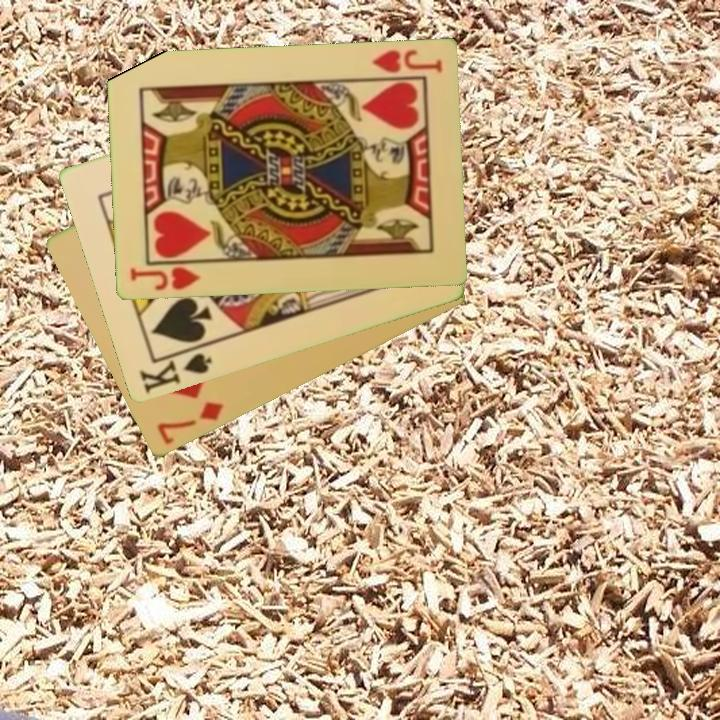7d: (153, 398, 227, 448)
Jh: (126, 264, 202, 294), (368, 46, 444, 76)
Ks: (135, 341, 215, 397)
